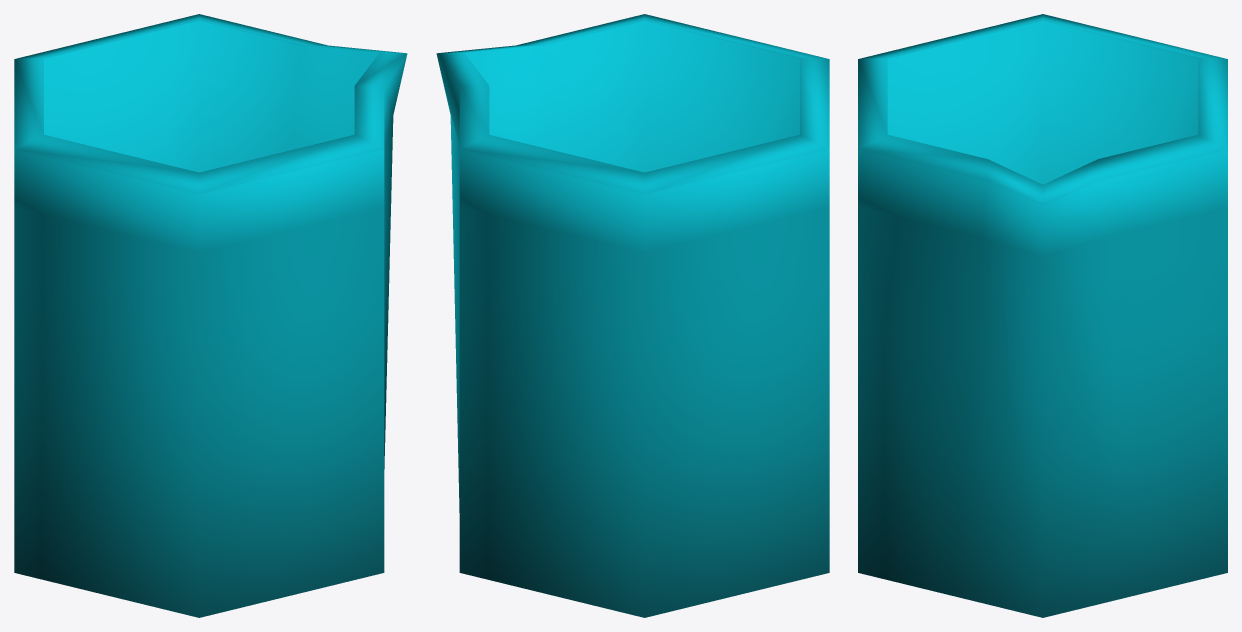
Rendered from BequerPote.fbx.
The picture shows the model from 3 angles, left to right: view 1: azimuth 30°, elevation 25°; view 2: azimuth 150°, elevation 25°; view 3: azimuth 270°, elevation 25°; orthographic projection.
Visible parts, largest first — view 1: BequerPote; view 2: BequerPote; view 3: BequerPote.
Boxes of the visible parts, x1,y1,x2,y2 form: BequerPote: (14, 14, 407, 617); BequerPote: (436, 14, 829, 617); BequerPote: (858, 14, 1227, 617).
Size of the model in its own units: 23.39 by 24.51 by 19.05.
